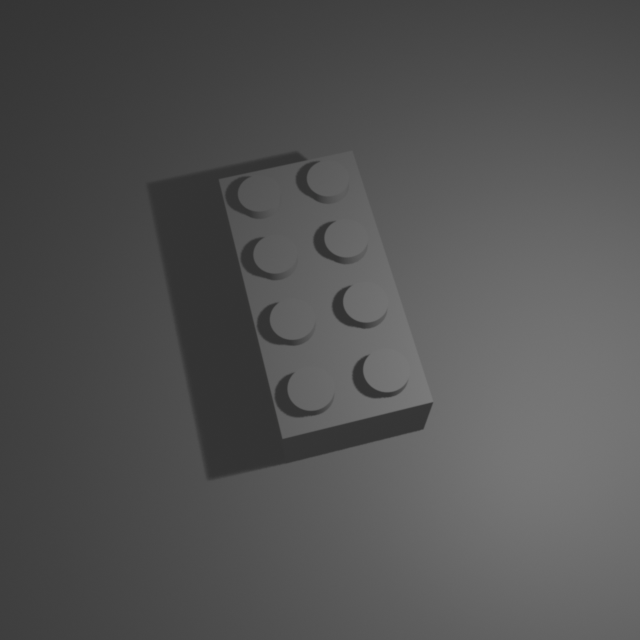lego_2x4: (217, 143, 435, 464)
